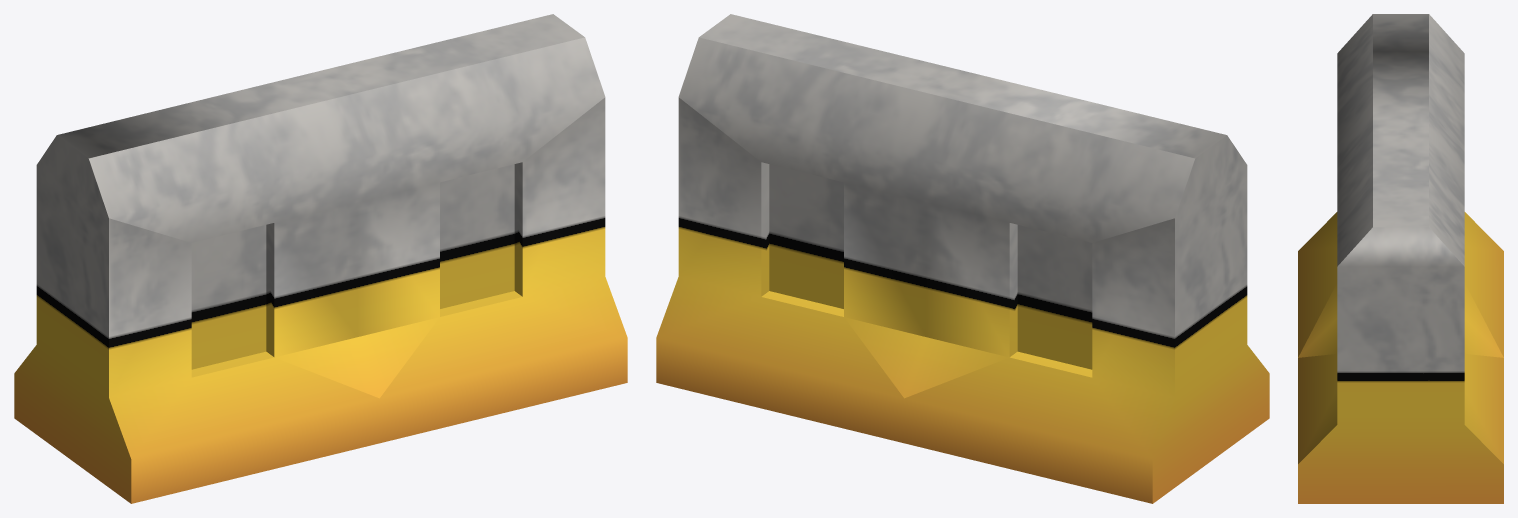
The model's file is Barrier_01_Conc.fbx.
3 renders of one model, left to right at view 1: azimuth 30°, elevation 25°; view 2: azimuth 150°, elevation 25°; view 3: azimuth 270°, elevation 25°, orthographic. The views are drawn at different scales.
Parts seen in each view (by area): view 1: Barrier_01_Conc; view 2: Barrier_01_Conc; view 3: Barrier_01_Conc.
Part boxes in pixels (x1,y1,x2,y2): Barrier_01_Conc: (14, 14, 627, 503); Barrier_01_Conc: (656, 14, 1269, 503); Barrier_01_Conc: (1298, 14, 1503, 503).
Bounding box in the file's own units: 6.25 × 3.78 × 2.55.
